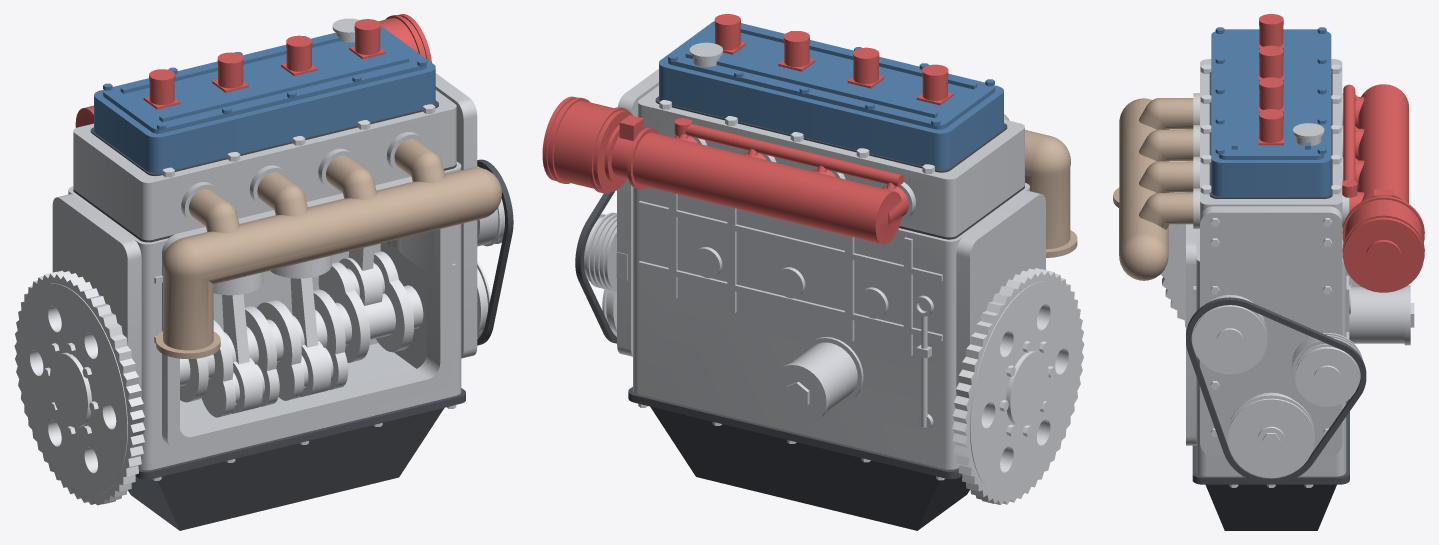
File: car-engine.glb
3 views of the same model, side by side, from view 1: azimuth 30°, elevation 25°; view 2: azimuth 150°, elevation 25°; view 3: azimuth 270°, elevation 25° (orthographic). The views are drawn at different scales.
Parts seen in each view (by area): view 1: DOHC Valve Cover, Exhaust Collector and Downpipe, Engine Block - 2.0 L Inline-Four, Cylinder Head - 16 Valve, Deep Sump Oil Pan, Forged Crankshaft, Lightened Flywheel, Cutaway Window Flange, Rear Engine Cover, Exhaust Header Runners, Flywheel Ring Gear, Timing Chain Cover (+14 smaller); view 2: Engine Block - 2.0 L Inline-Four, DOHC Valve Cover, Deep Sump Oil Pan, Lightened Flywheel, Intake Manifold, Cylinder Head - 16 Valve, Rear Engine Cover, Flywheel Ring Gear, Air Filter Housing, Exhaust Collector and Downpipe, Timing Chain Cover, Fuel Rail (+15 smaller); view 3: Timing Chain Cover, DOHC Valve Cover, Deep Sump Oil Pan, Exhaust Header Runners, Exhaust Collector and Downpipe, Crankshaft Pulley, Intake Manifold, Air Filter End Cap, Cylinder Head - 16 Valve, Water Pump Pulley, Serpentine Accessory Belt, Alternator Pulley (+17 smaller).
Part boxes in pixels (x1,y1,x2,y2): DOHC Valve Cover: (94,26,435,173); Exhaust Collector and Downpipe: (156,167,501,358); Engine Block - 2.0 L Inline-Four: (68,161,461,470); Cylinder Head - 16 Valve: (73,90,456,240); Deep Sump Oil Pan: (127,388,465,530); Forged Crankshaft: (50,251,423,427); Lightened Flywheel: (19,283,127,495); Cutaway Window Flange: (162,176,452,450); Rear Engine Cover: (52,194,141,398); Exhaust Header Runners: (189,139,445,232); Flywheel Ring Gear: (14,270,145,505); Timing Chain Cover: (435,73,477,358); Engine Block - 2.0 L Inline-Four: (633,183,1029,469); DOHC Valve Cover: (659,21,1003,169); Deep Sump Oil Pan: (628,387,970,530); Lightened Flywheel: (970,281,1079,495); Intake Manifold: (632,132,908,244); Cylinder Head - 16 Valve: (638,85,1024,237); Rear Engine Cover: (956,190,1045,396); Flywheel Ring Gear: (952,268,1084,504); Air Filter Housing: (547,100,633,192); Exhaust Collector and Downpipe: (1025,130,1077,257); Timing Chain Cover: (617,69,658,356); Fuel Rail: (674,118,903,187); Timing Chain Cover: (1200,206,1342,455); DOHC Valve Cover: (1211,29,1331,196); Deep Sump Oil Pan: (1192,399,1349,530); Exhaust Header Runners: (1139,98,1193,229); Exhaust Collector and Downpipe: (1113,98,1173,280); Crankshaft Pulley: (1228,394,1314,478); Intake Manifold: (1349,84,1408,212); Air Filter End Cap: (1343,217,1423,292); Cylinder Head - 16 Valve: (1193,59,1349,228); Water Pump Pulley: (1192,305,1267,374); Serpentine Accessory Belt: (1186,297,1366,483); Alternator Pulley: (1295,344,1359,406).
Bounding box in the file's own units: 0.592 × 0.624 × 0.416.
